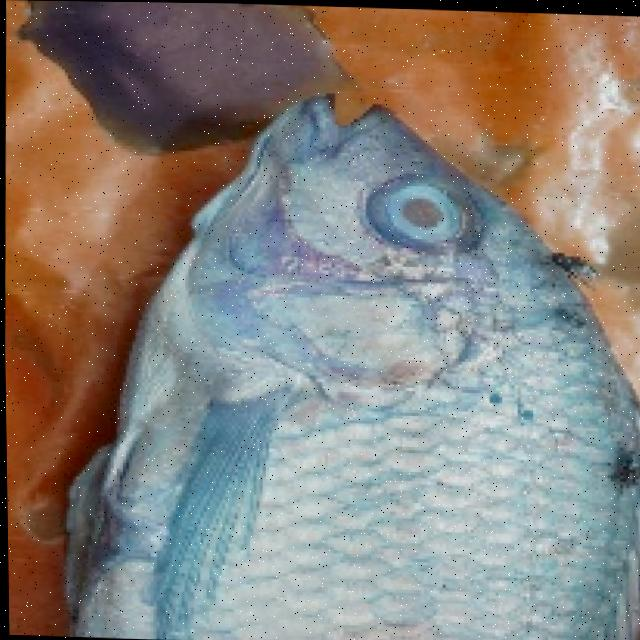Non-Fresh: (348, 171, 476, 260)
